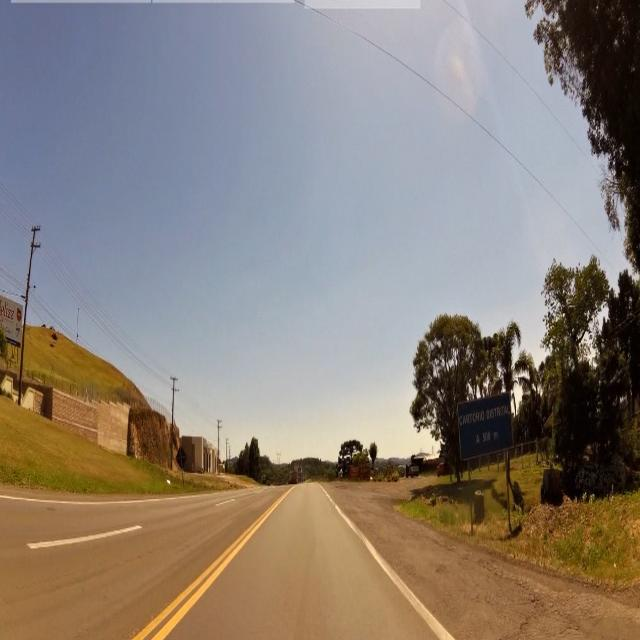LOC-6: (457, 398, 514, 449)
